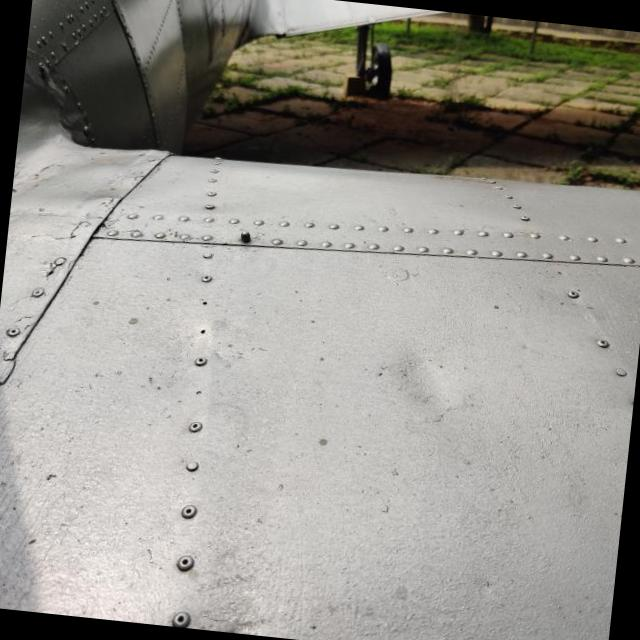Dent: (349, 302, 496, 440)
